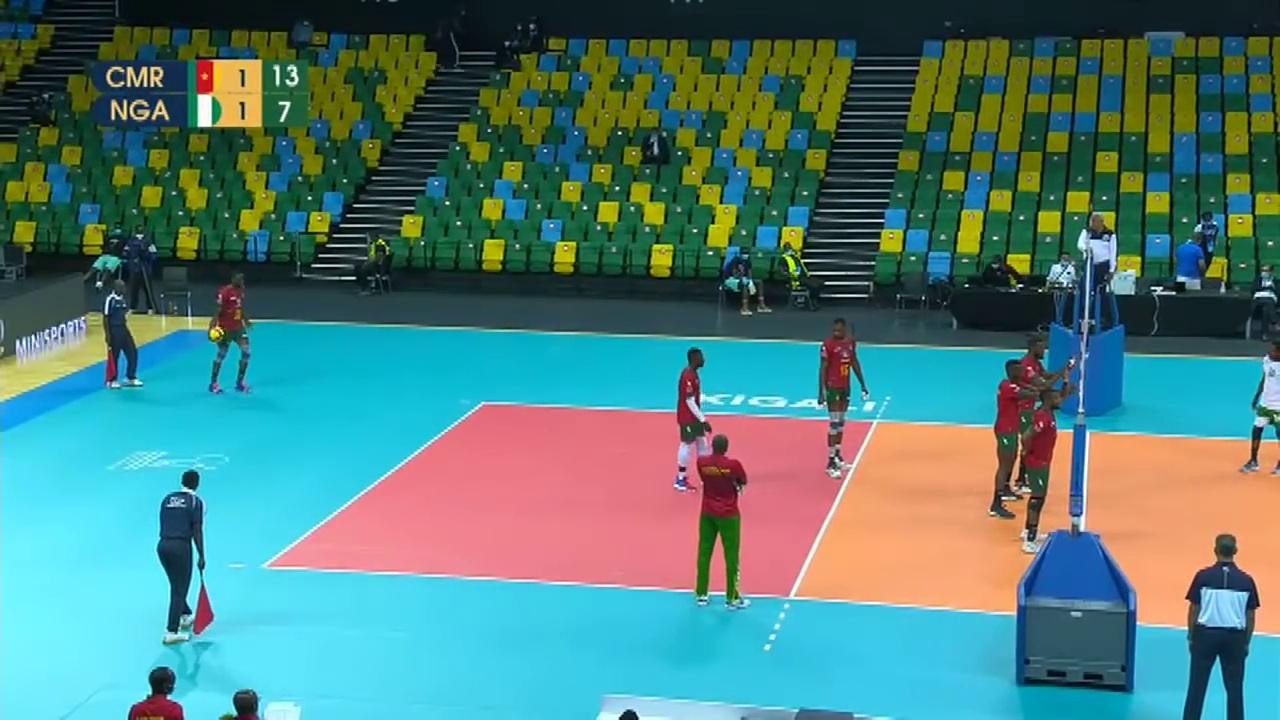player: (1009, 337, 1074, 492), (816, 321, 876, 475), (984, 358, 1031, 521), (1024, 388, 1066, 551), (674, 347, 717, 487), (1240, 340, 1280, 475), (208, 273, 252, 391)
refree: (1180, 530, 1266, 720), (153, 471, 208, 638), (93, 274, 139, 387), (1079, 212, 1118, 327)
